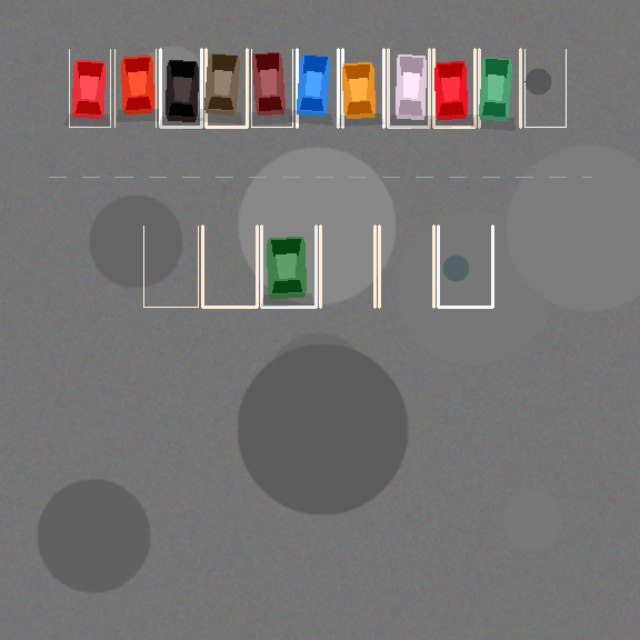space-empty: (143, 226, 198, 307), (202, 226, 257, 307), (320, 226, 374, 307), (379, 226, 433, 307), (438, 226, 492, 307), (524, 49, 566, 127)
space-occupied: (261, 226, 316, 307), (114, 49, 156, 127), (69, 49, 110, 127), (160, 49, 201, 127), (206, 49, 247, 127), (251, 49, 292, 127), (297, 49, 338, 127), (342, 49, 383, 127), (388, 49, 429, 127), (433, 49, 474, 127), (479, 49, 520, 127)
